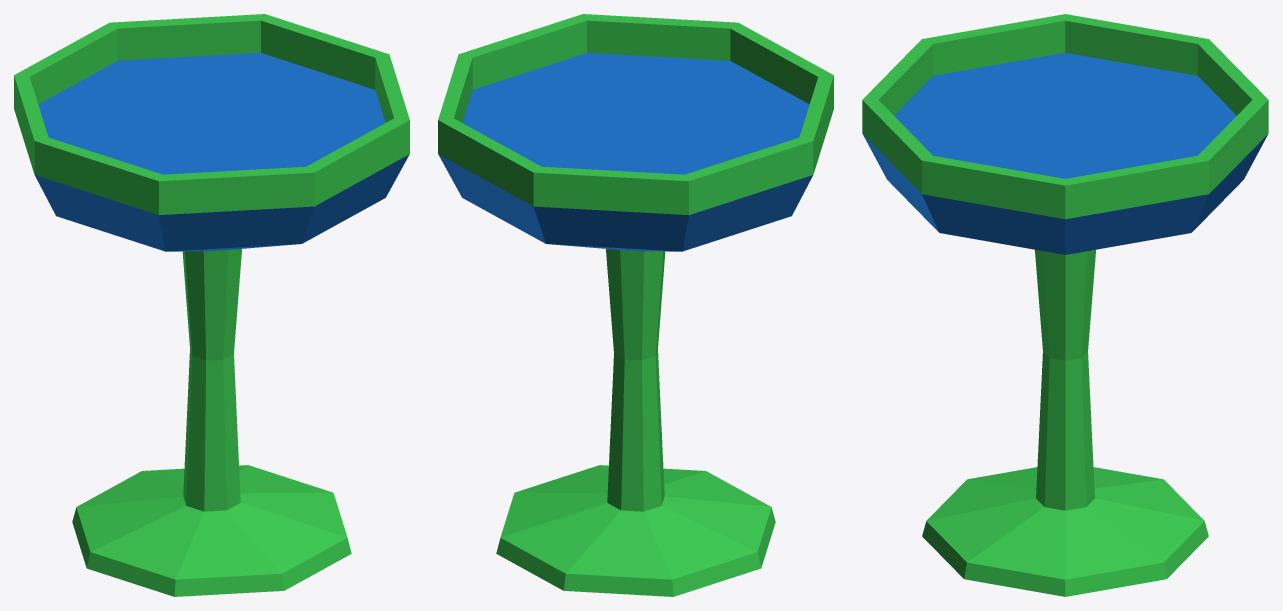
The model's file is SM_margarita_glass.fbx.
The picture shows the model from 3 angles, left to right: view 1: azimuth 30°, elevation 25°; view 2: azimuth 150°, elevation 25°; view 3: azimuth 270°, elevation 25°; orthographic projection.
Visible parts, largest first — view 1: margarita_glass_1; view 2: margarita_glass_1; view 3: margarita_glass_1.
Part boxes in pixels (x1=…): margarita_glass_1: x1=14, y1=14, x2=409, y2=596; margarita_glass_1: x1=438, y1=14, x2=833, y2=596; margarita_glass_1: x1=862, y1=14, x2=1268, y2=596.
Bounding box in the file's own units: 15.87 × 18.81 × 15.87.
